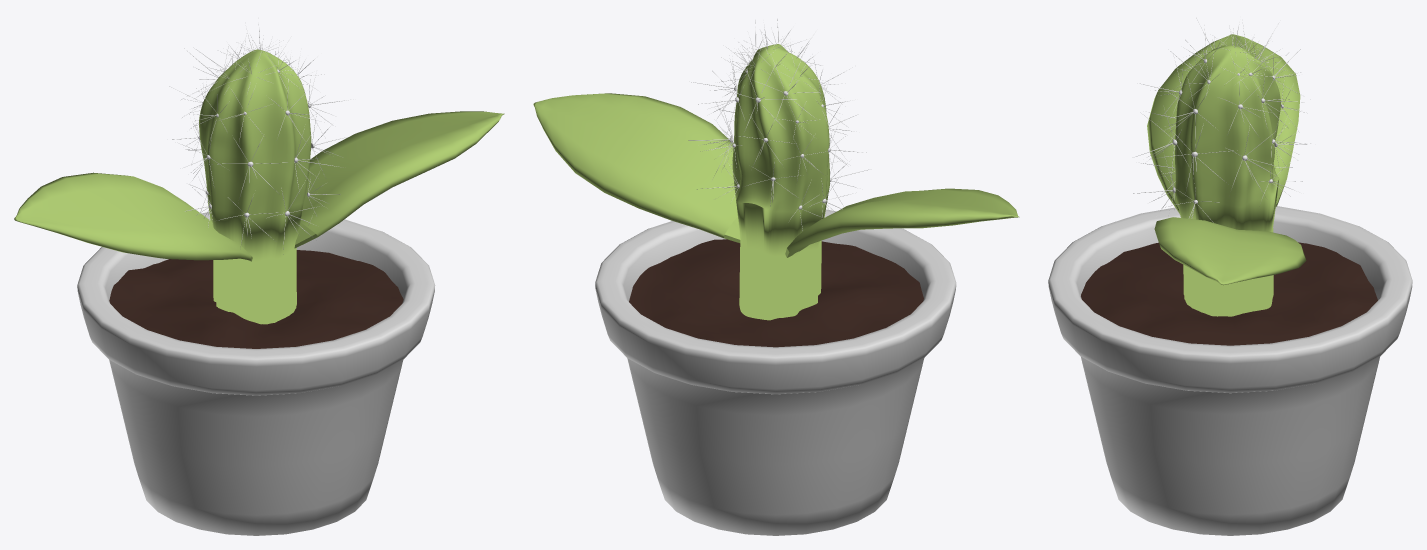
The model's file is plant_sprout_2.fbx.
3 views of the same model, side by side, from view 1: azimuth 30°, elevation 25°; view 2: azimuth 150°, elevation 25°; view 3: azimuth 270°, elevation 25° (orthographic).
Parts seen in each view (by area): view 1: model:topf_topf_0, model7:kaktus_kaktus_0, model:erde_erde_0, pasted__pasted__pasted__pasted__pasted__pasted__Cube.001, pasted__pasted__pasted__pasted__Cube.001, model8:stacheln_stacheln_0; view 2: model:topf_topf_0, model7:kaktus_kaktus_0, pasted__pasted__pasted__pasted__Cube.001, model:erde_erde_0, pasted__pasted__pasted__pasted__pasted__pasted__Cube.001, model8:stacheln_stacheln_0; view 3: model:topf_topf_0, model7:kaktus_kaktus_0, model:erde_erde_0, pasted__pasted__pasted__pasted__Cube.001, pasted__pasted__pasted__pasted__pasted__pasted__Cube.001, model8:stacheln_stacheln_0.
Part boxes in pixels (<box>): model:topf_topf_0: <box>77,212,435,535</box>; model7:kaktus_kaktus_0: <box>199,49,311,324</box>; model:erde_erde_0: <box>109,250,403,348</box>; pasted__pasted__pasted__pasted__pasted__pasted__Cube.001: <box>14,172,252,261</box>; pasted__pasted__pasted__pasted__Cube.001: <box>294,111,504,248</box>; model8:stacheln_stacheln_0: <box>169,17,353,254</box>; model:topf_topf_0: <box>595,209,956,535</box>; model7:kaktus_kaktus_0: <box>732,44,829,320</box>; pasted__pasted__pasted__pasted__Cube.001: <box>533,93,740,242</box>; model:erde_erde_0: <box>629,239,923,347</box>; pasted__pasted__pasted__pasted__pasted__pasted__Cube.001: <box>785,188,1019,257</box>; model8:stacheln_stacheln_0: <box>688,19,868,230</box>; model:topf_topf_0: <box>1048,206,1412,535</box>; model7:kaktus_kaktus_0: <box>1175,45,1280,316</box>; model:erde_erde_0: <box>1081,242,1377,345</box>; pasted__pasted__pasted__pasted__Cube.001: <box>1154,217,1306,285</box>; pasted__pasted__pasted__pasted__pasted__pasted__Cube.001: <box>1147,34,1300,213</box>; model8:stacheln_stacheln_0: <box>1133,18,1311,222</box>.
Bounding box in the file's own units: 7.03 × 6.53 × 4.49.
